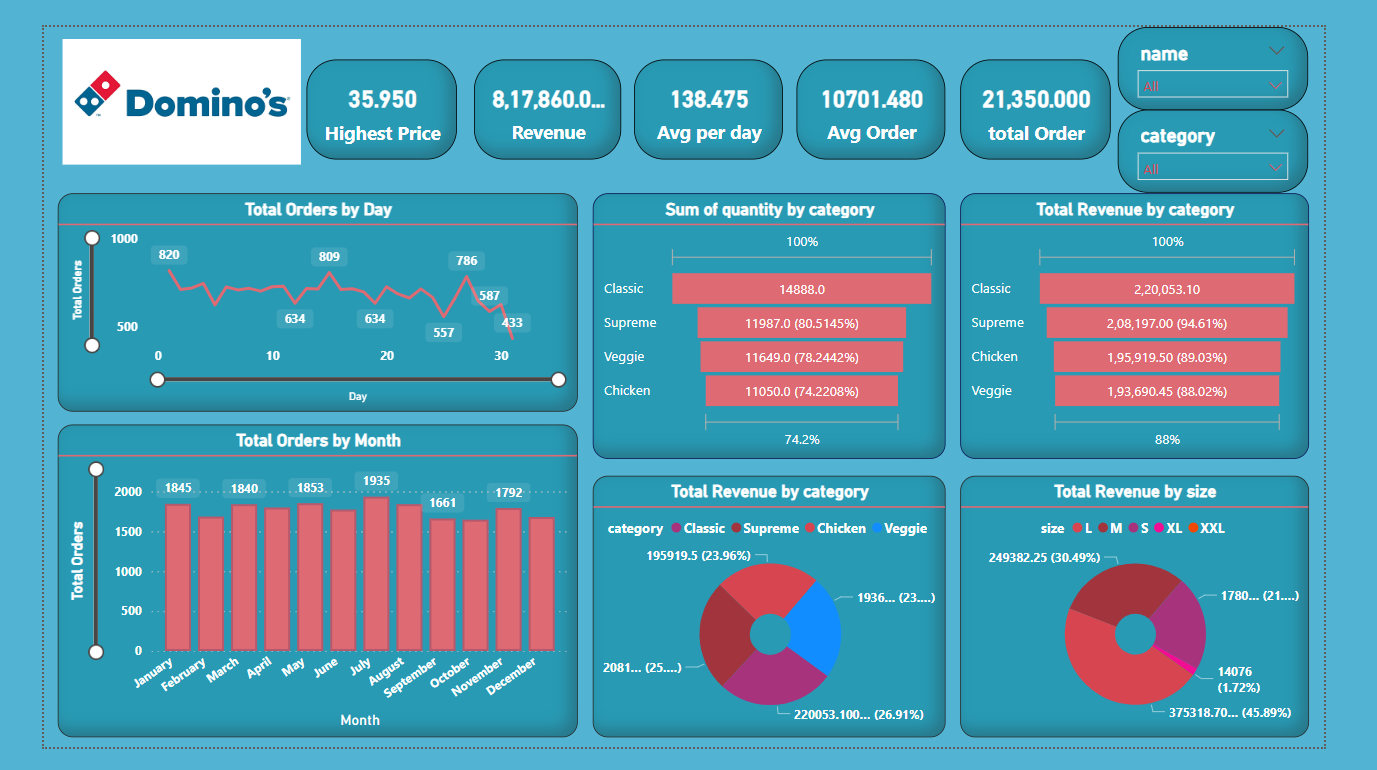

The page's visual inventory and layout, read from the dashboard file:
{"tool":"powerbi","page":{"name":"Page 1","canvas":[1280,720],"ordinal":0},"visuals":[{"type":"card","fields":{"Values":["Avg(order_details.order_id)"]},"box":[752.9,32.9,148.6,100],"z":0},{"type":"card","fields":{"Values":["Count(order_details.order_id)"]},"box":[915.7,32.9,150,100],"z":1000},{"type":"funnel","fields":{"Category":["pizza_types.category"],"Y":["Sum(order_details.quantity)"]},"box":[548.6,165.7,352.9,265.7],"z":3000},{"type":"clusteredColumnChart","fields":{"Category":["orders.order_date.Variation.Date Hierarchy.Month"],"Y":["order_details.Total Orders"]},"box":[14.3,397.1,520,312.9],"z":4000},{"type":"card","fields":{"Values":["order_details.Average Pizzas Per Day"]},"box":[590,32.9,148.6,100],"z":5000},{"type":"donutChart","fields":{"Category":["pizza_types.category"],"Y":["order_details.Total Revenue"]},"box":[548.6,448.6,352.9,261.4],"z":6000},{"type":"lineChart","fields":{"Category":["orders.order_date.Variation.Date Hierarchy.Day"],"Y":["order_details.Total Orders"]},"box":[14.3,165.7,520,218.6],"z":7000},{"type":"donutChart","fields":{"Y":["order_details.Total Revenue"],"Category":["pizzas.size"]},"box":[915.7,448.6,348.6,261.4],"z":8000},{"type":"card","fields":{"Values":["order_details.Highest Priced Pizza"]},"box":[262.9,32.9,150,100],"z":9000},{"type":"funnel","fields":{"Y":["order_details.Total Revenue"],"Category":["pizza_types.category"]},"box":[915.7,165.7,348.6,265.7],"z":10000},{"type":"card","fields":{"Values":["order_details.Total Revenue"]},"box":[430,32.9,147.1,100],"z":10001},{"type":"slicer","fields":{"Values":["pizza_types.category"]},"box":[1074.3,82.9,190,82.9],"z":10002},{"type":"slicer","fields":{"Values":["pizza_types.name"]},"box":[1074.3,0,190,82.9],"z":10003},{"type":"image","box":[14.3,0,248.6,150],"z":10004}]}

Visuals, with their boxes in screenshot pixels (x1, y1, x2, y2), scaled from the page's 1280x720 canvas onto the 1377x770 screenshot:
card - Avg(order_details.order_id): (x1=810, y1=35, x2=970, y2=142)
card - Count(order_details.order_id): (x1=985, y1=35, x2=1146, y2=142)
funnel - pizza_types.category x Sum(order_details.quantity): (x1=590, y1=177, x2=970, y2=461)
clusteredColumnChart - orders.order_date.Variation.Date Hierarchy.Month x order_details.Total Orders: (x1=15, y1=425, x2=575, y2=759)
card - order_details.Average Pizzas Per Day: (x1=635, y1=35, x2=795, y2=142)
donutChart - pizza_types.category x order_details.Total Revenue: (x1=590, y1=480, x2=970, y2=759)
lineChart - orders.order_date.Variation.Date Hierarchy.Day x order_details.Total Orders: (x1=15, y1=177, x2=575, y2=411)
donutChart - order_details.Total Revenue x pizzas.size: (x1=985, y1=480, x2=1360, y2=759)
card - order_details.Highest Priced Pizza: (x1=283, y1=35, x2=444, y2=142)
funnel - order_details.Total Revenue x pizza_types.category: (x1=985, y1=177, x2=1360, y2=461)
card - order_details.Total Revenue: (x1=463, y1=35, x2=621, y2=142)
slicer - pizza_types.category: (x1=1156, y1=89, x2=1360, y2=177)
slicer - pizza_types.name: (x1=1156, y1=0, x2=1360, y2=89)
image: (x1=15, y1=0, x2=283, y2=160)
